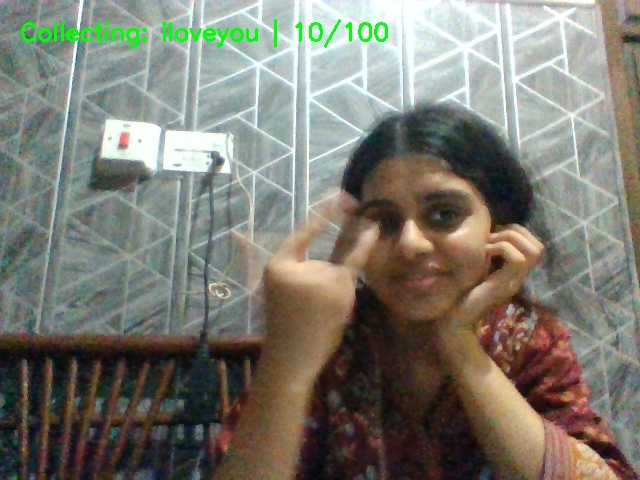iloveyou: (233, 181, 384, 415)
